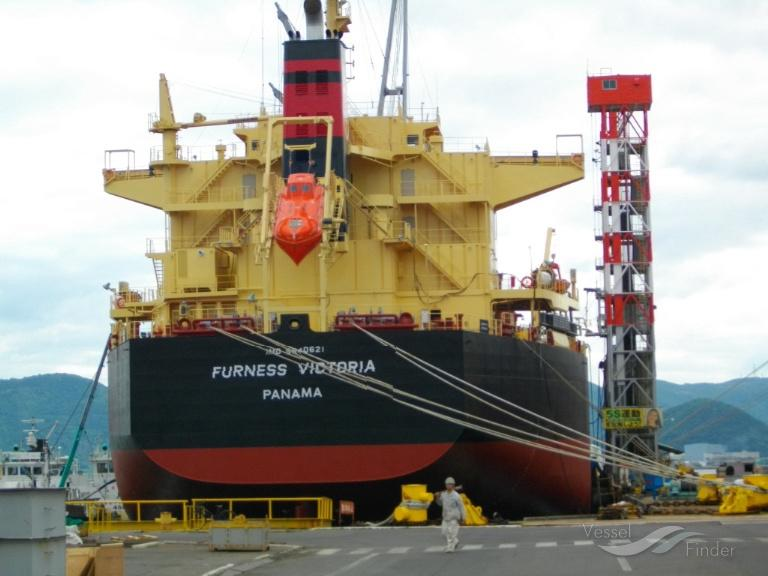OCR: (200, 346, 396, 420)
